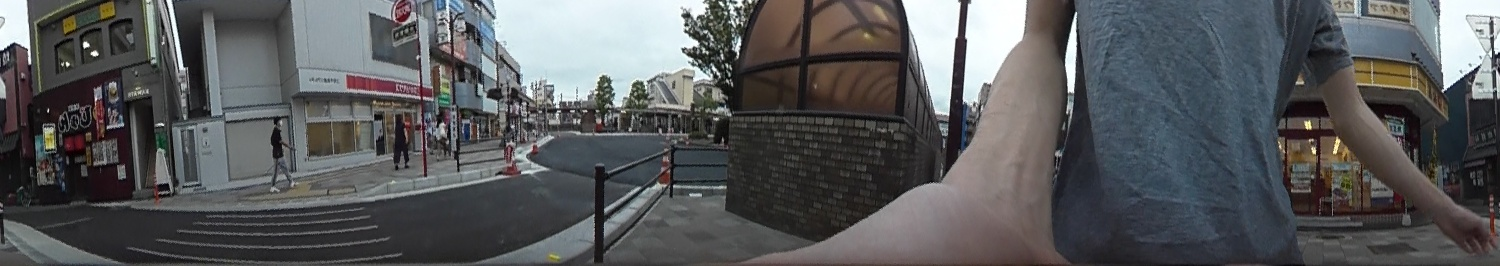difficult_person: (431, 112, 448, 162)
person: (264, 113, 300, 194), (390, 110, 411, 167)
